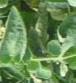Tomato mold leaf: (0, 5, 28, 65), (54, 10, 76, 63)
